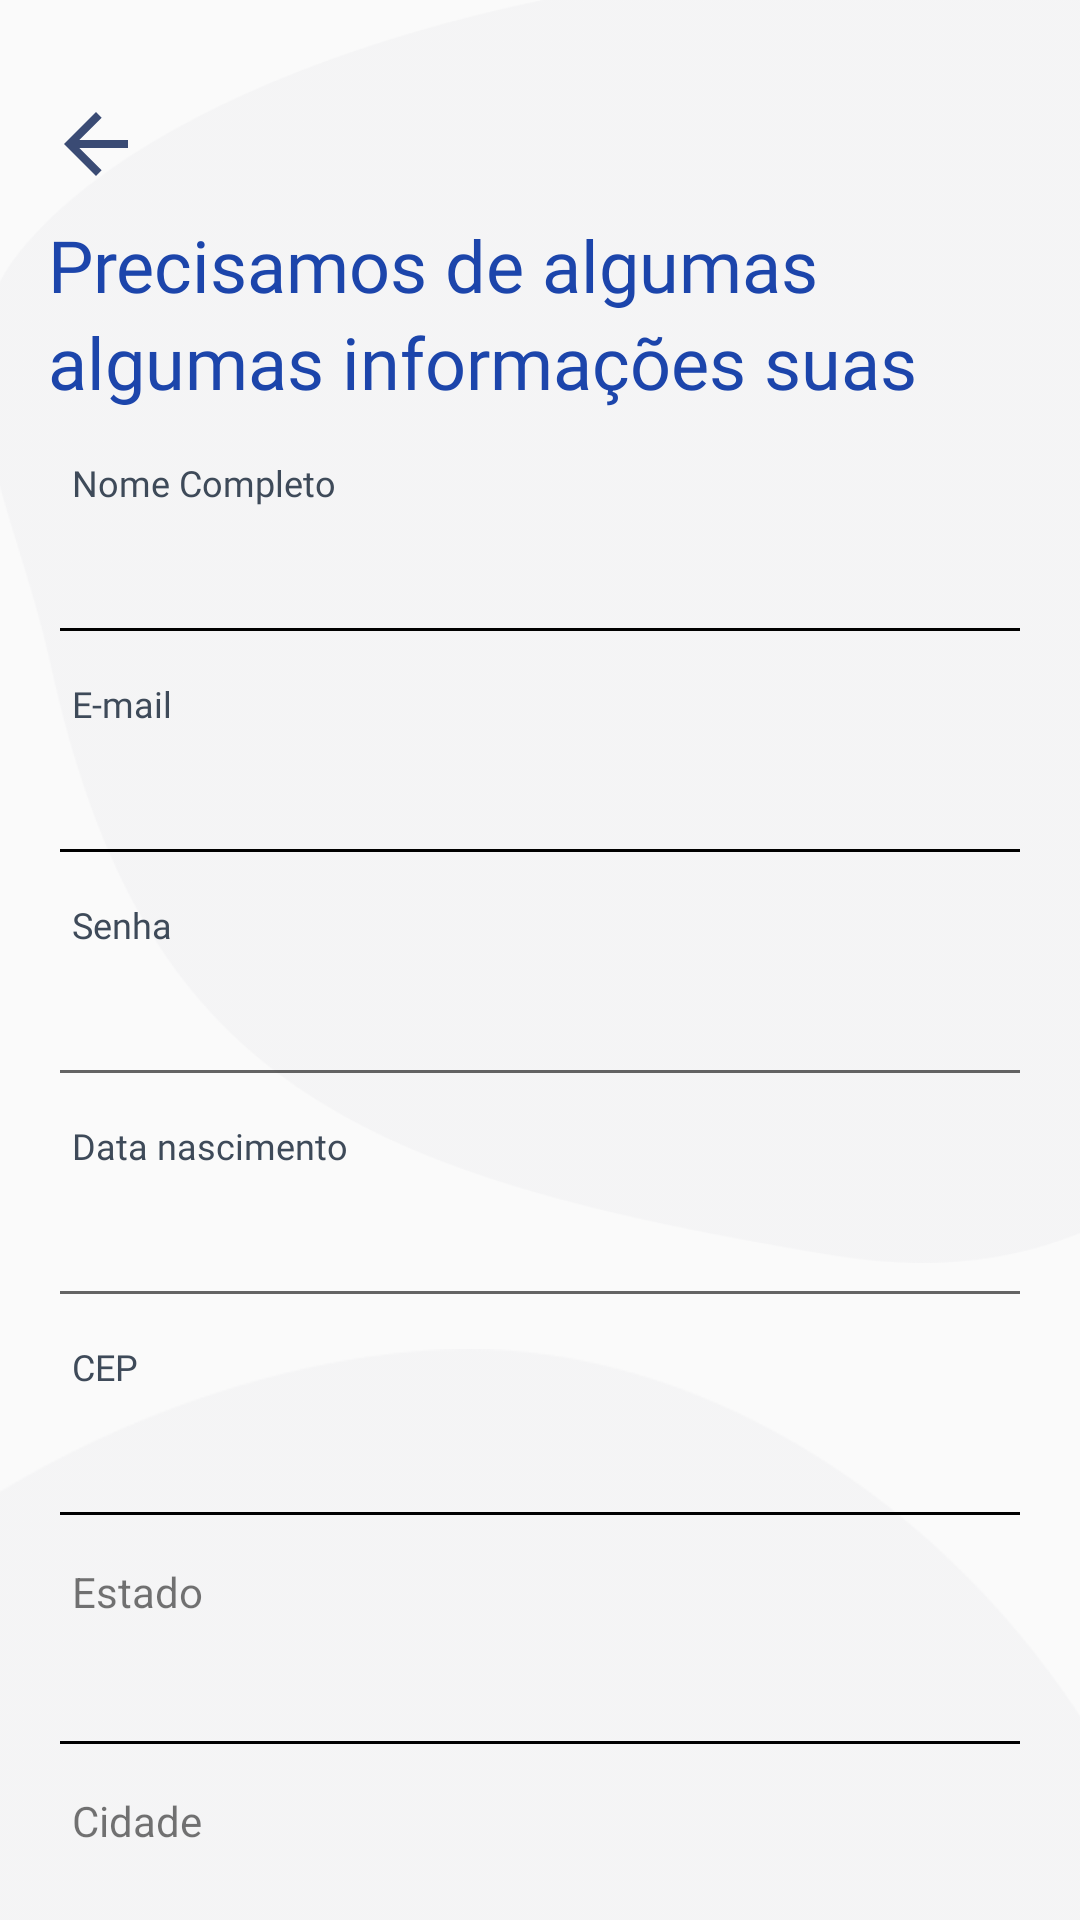

Screen size 1080 × 1920. Icon name, then its box in pixels as [x1, y1, x2, y2]:
arrow back: [64, 112, 128, 176]
